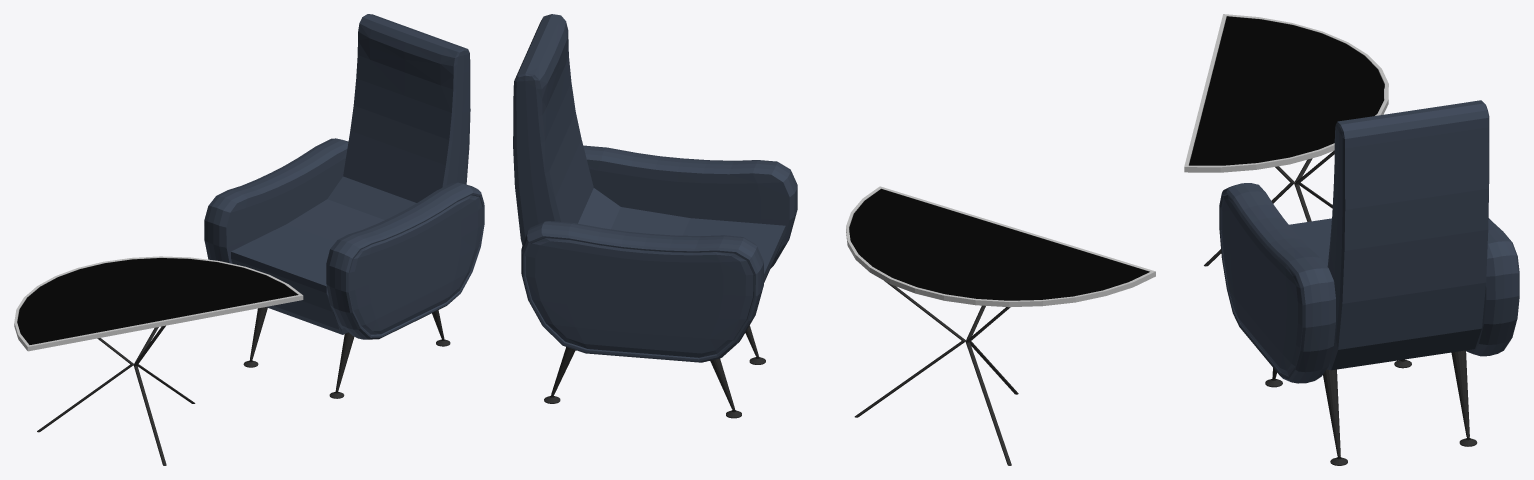
The model's file is armchair_and_table3.obj.
3 views of the same model, side by side, from view 1: azimuth 30°, elevation 25°; view 2: azimuth 150°, elevation 25°; view 3: azimuth 270°, elevation 25° (orthographic). The views are drawn at different scales.
Visible parts, largest first — view 1: sofa_zul.001_Cube.049, Circle, Circle.001, Tube.001_Tube.005, sofa_zul_potas.001_Tube.003; view 2: sofa_zul.001_Cube.049, Circle, Circle.001, Tube.001_Tube.005, sofa_zul_potas.001_Tube.003; view 3: sofa_zul.001_Cube.049, Circle, Circle.001, sofa_zul_potas.001_Tube.003, Tube.001_Tube.005.
Boxes of the visible parts, x1=… form: sofa_zul.001_Cube.049: x1=204, y1=14, x2=484, y2=339; Circle: x1=17, y1=258, x2=297, y2=344; Circle.001: x1=14, y1=256, x2=303, y2=351; Tube.001_Tube.005: x1=37, y1=325, x2=195, y2=465; sofa_zul_potas.001_Tube.003: x1=243, y1=307, x2=450, y2=398; sofa_zul.001_Cube.049: x1=513, y1=14, x2=797, y2=362; Circle: x1=849, y1=189, x2=1149, y2=300; Circle.001: x1=846, y1=186, x2=1155, y2=307; Tube.001_Tube.005: x1=854, y1=281, x2=1018, y2=465; sofa_zul_potas.001_Tube.003: x1=544, y1=325, x2=765, y2=418; sofa_zul.001_Cube.049: x1=1219, y1=100, x2=1519, y2=383; Circle: x1=1189, y1=16, x2=1384, y2=165; Circle.001: x1=1184, y1=14, x2=1388, y2=172; sofa_zul_potas.001_Tube.003: x1=1265, y1=350, x2=1477, y2=465; Tube.001_Tube.005: x1=1204, y1=150, x2=1334, y2=266.
Size of the model in its own units: 1.69 by 0.949 by 0.8256.
